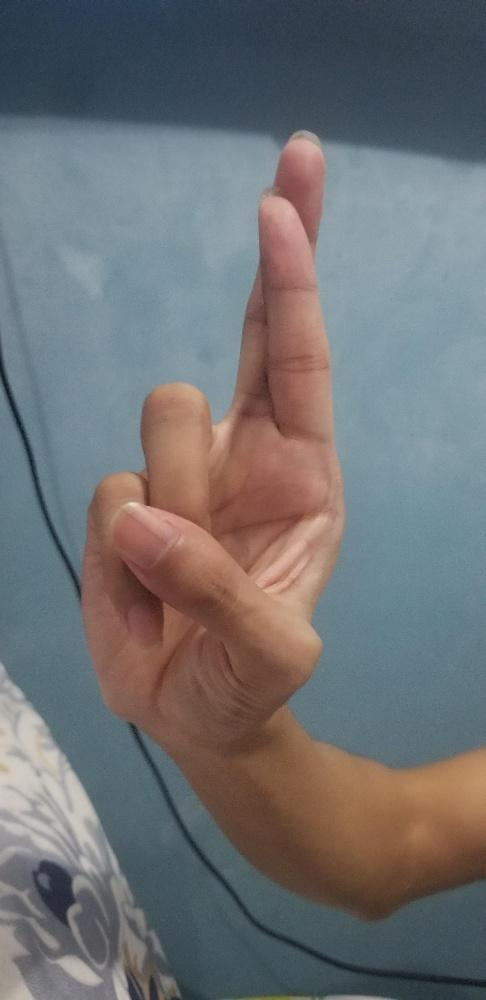r: (74, 124, 350, 759)
